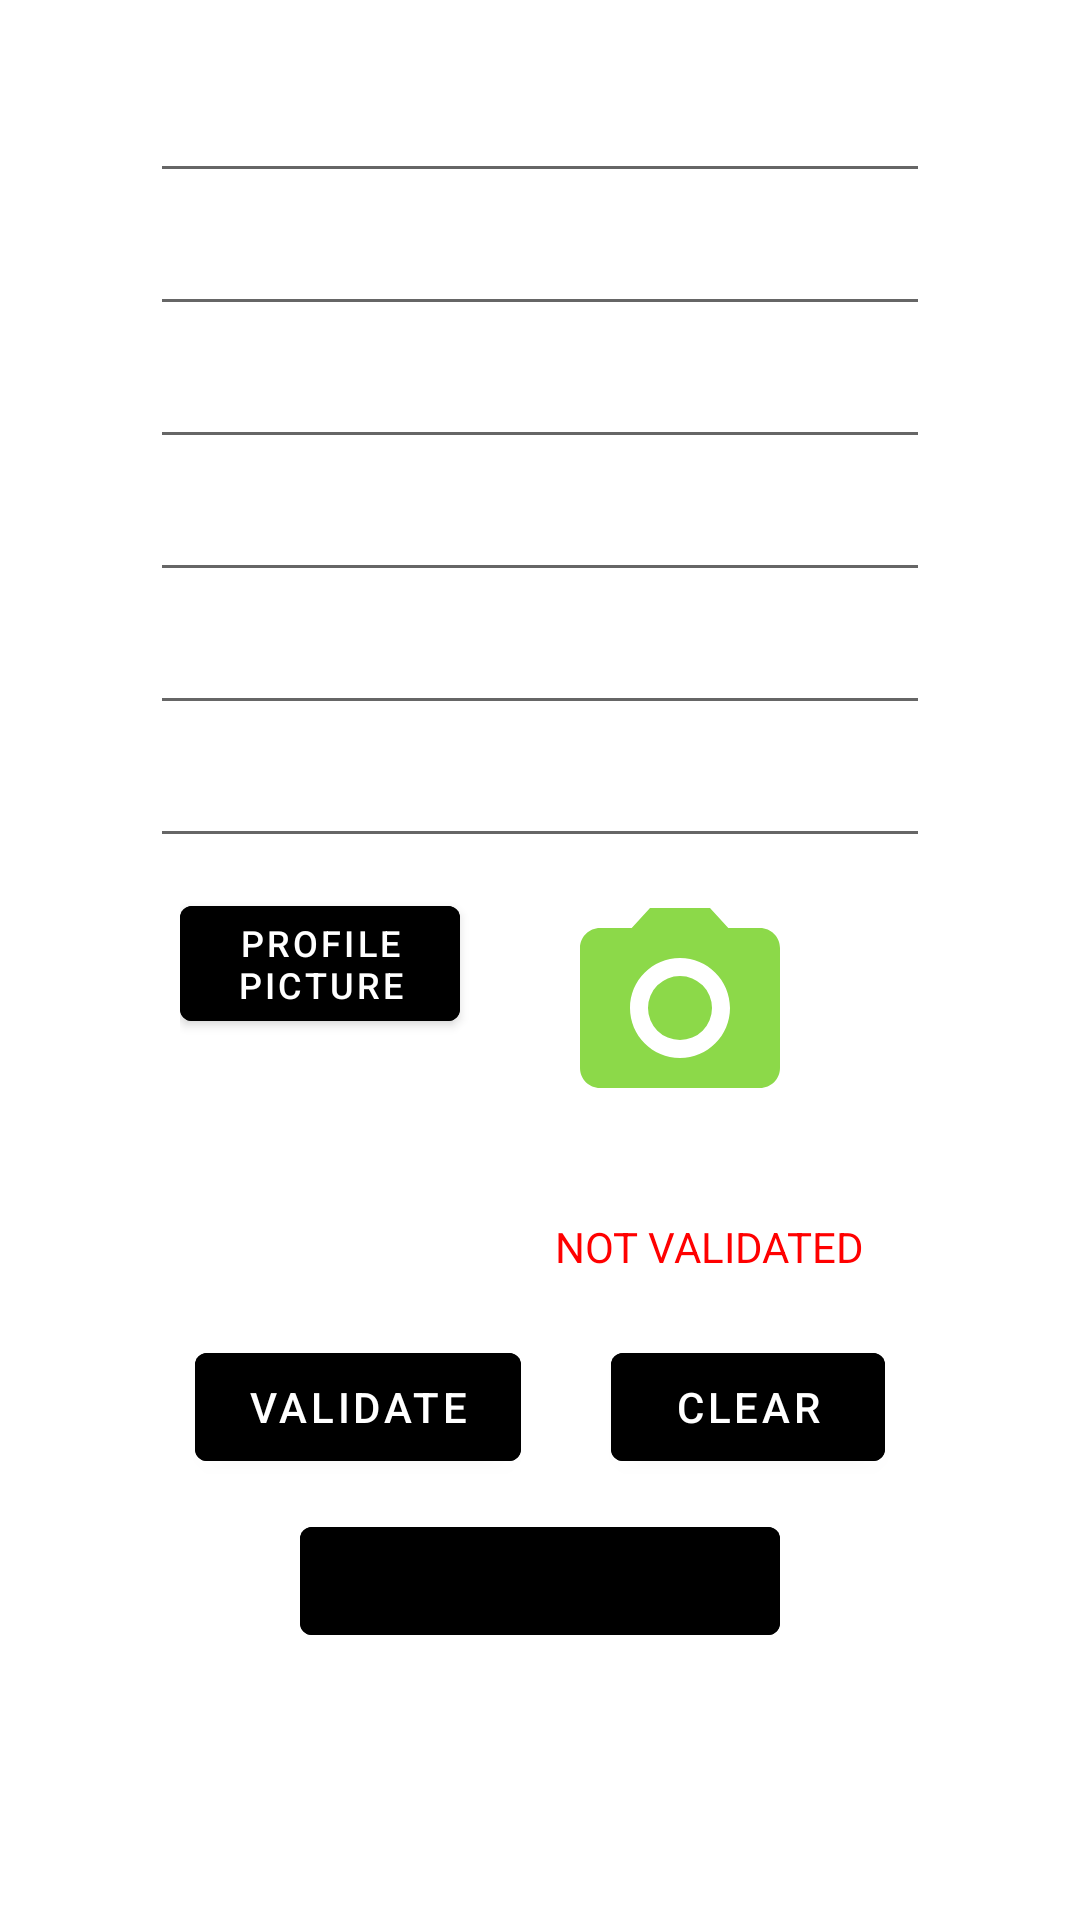

Screen size 1080w x 1920h. Icon name, then its box in pixels as (x1, y1, x2, y2):
camera: (580, 908, 780, 1088)
